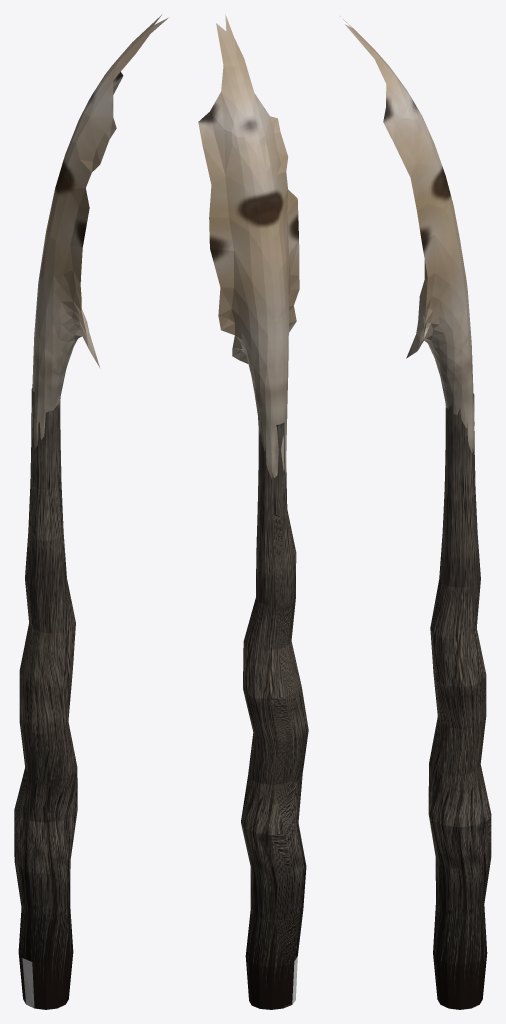
File: Zcola.obj
The picture shows the model from 3 angles, left to right: view 1: azimuth 90°, elevation 25°; view 2: azimuth 210°, elevation 25°; view 3: azimuth 270°, elevation 25°; orthographic projection. The views are drawn at different scales.
Visible parts, largest first — view 1: Cola; view 2: Cola; view 3: Cola.
Part boxes in pixels (x1,y1,x2,y2): Cola: [14, 14, 169, 1009]; Cola: [198, 14, 308, 1009]; Cola: [340, 16, 491, 1009].
Size of the model in its own units: 0.1106 by 1.1 by 0.1571.
3 materials, 3 textured.
